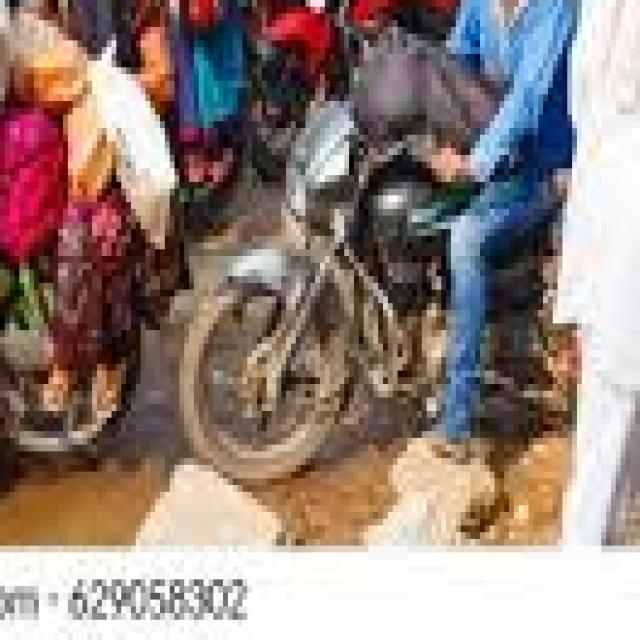bike: (174, 81, 582, 485), (0, 81, 160, 505), (262, 0, 465, 155)
